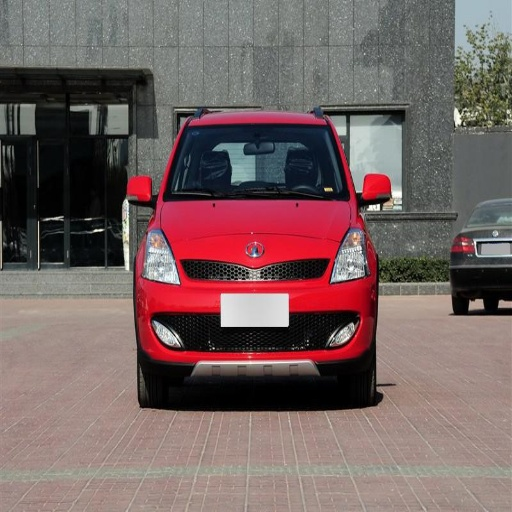front_bumper: (149, 241, 374, 375)
hood: (159, 201, 358, 248)
trunk: (147, 250, 223, 309)
